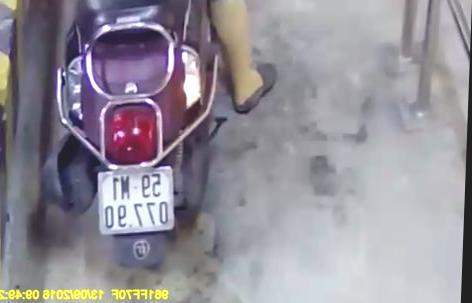License_Plate: (90, 161, 182, 237)
